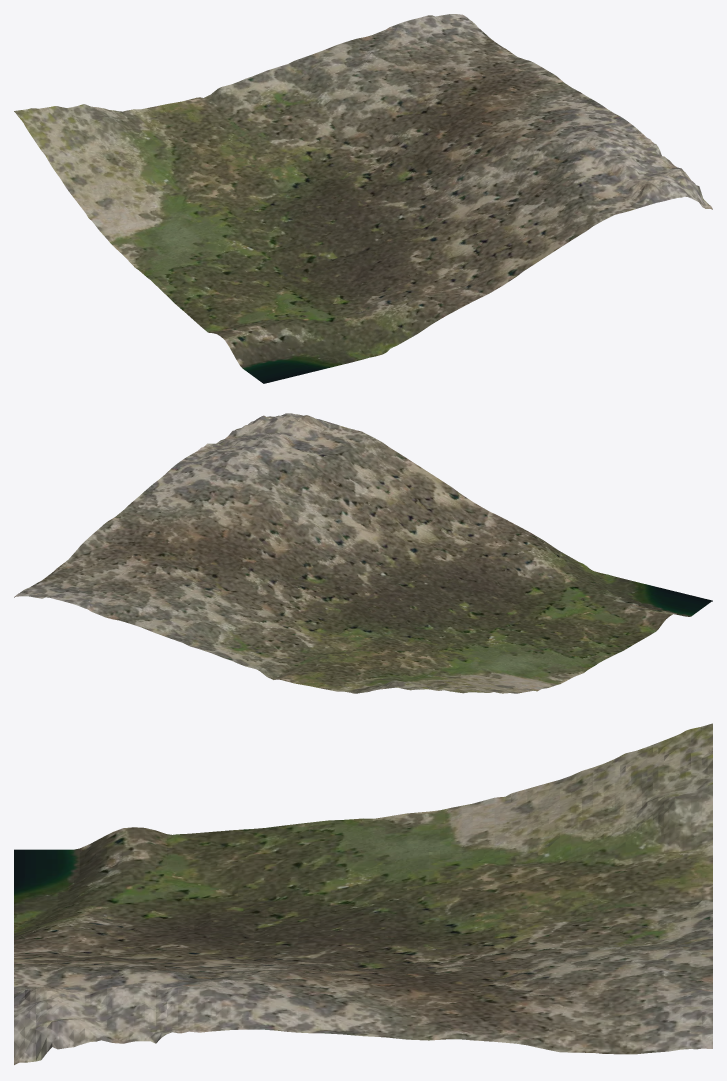
The picture shows the model from 3 angles, top to bottom: view 1: azimuth 30°, elevation 25°; view 2: azimuth 150°, elevation 25°; view 3: azimuth 270°, elevation 25°; orthographic projection. The views are drawn at different scales.
Bounding box in the file's own units: 500 × 105 × 481.
Materials: 1 (1 with a texture image).
